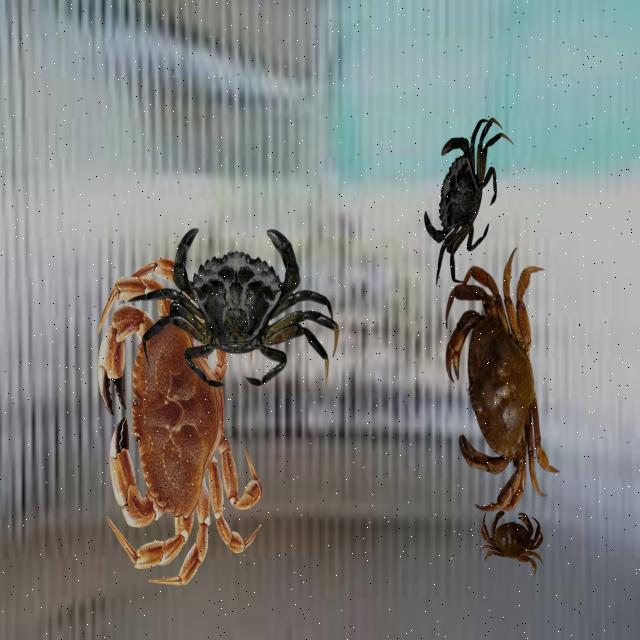European_Green_Crab: (125, 220, 342, 394), (407, 94, 517, 306)
